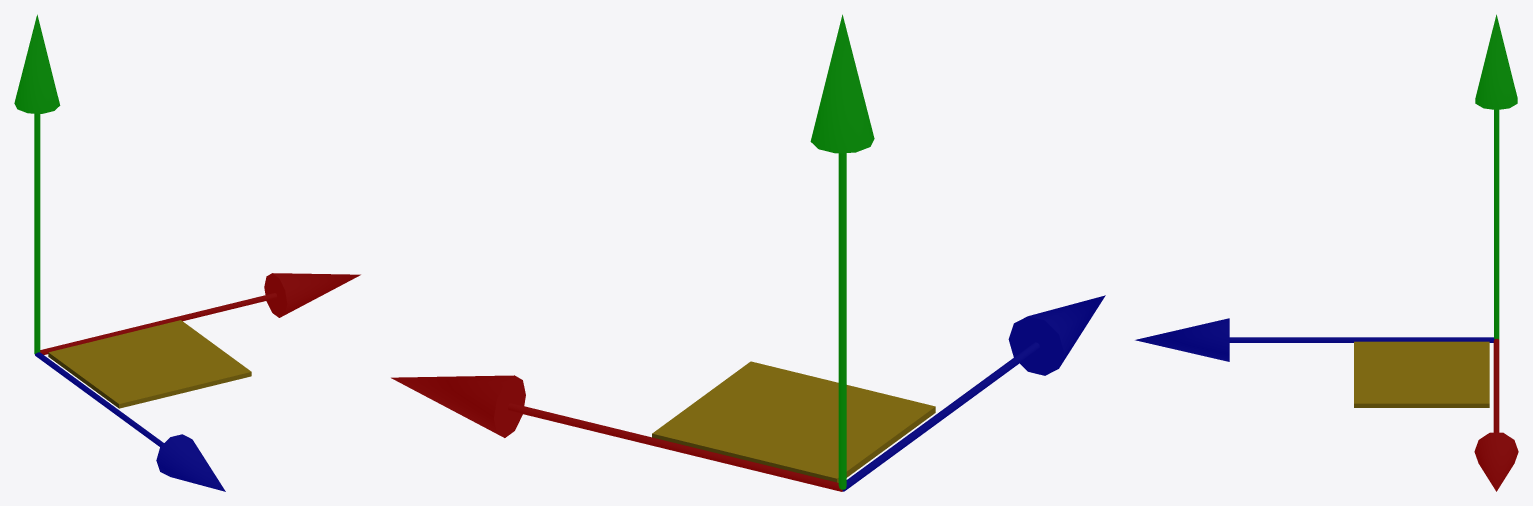
Rendered from ArrowTranslate.dae.
3 renders of one model, left to right at view 1: azimuth 30°, elevation 25°; view 2: azimuth 150°, elevation 25°; view 3: azimuth 270°, elevation 25°, orthographic. The views are drawn at different scales.
Parts seen in each view (by area): view 1: XYZ, YAXIS, XAXIS, ZAXIS; view 2: XYZ, YAXIS, XAXIS, ZAXIS; view 3: XYZ, YAXIS, ZAXIS, XAXIS.
Part boxes in pixels (x1=…): XYZ: x1=48, y1=320, x2=251, y2=408; YAXIS: x1=14, y1=14, x2=60, y2=353; XAXIS: x1=40, y1=273, x2=360, y2=354; ZAXIS: x1=35, y1=352, x2=225, y2=491; XYZ: x1=652, y1=361, x2=935, y2=482; YAXIS: x1=810, y1=14, x2=874, y2=489; XAXIS: x1=391, y1=375, x2=842, y2=491; ZAXIS: x1=842, y1=295, x2=1105, y2=491; XYZ: x1=1354, y1=341, x2=1489, y2=407; YAXIS: x1=1475, y1=14, x2=1517, y2=339; ZAXIS: x1=1135, y1=318, x2=1494, y2=361; XAXIS: x1=1474, y1=338, x2=1518, y2=491.
Size of the model in its own units: 1.81 by 1.82 by 1.8.
